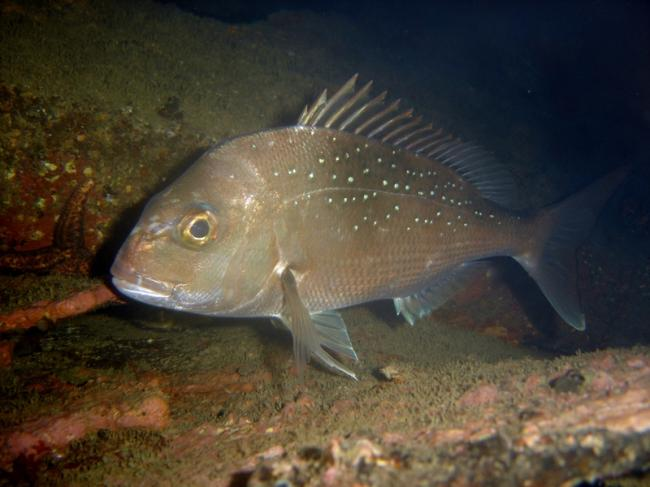fish: (109, 73, 610, 331)
